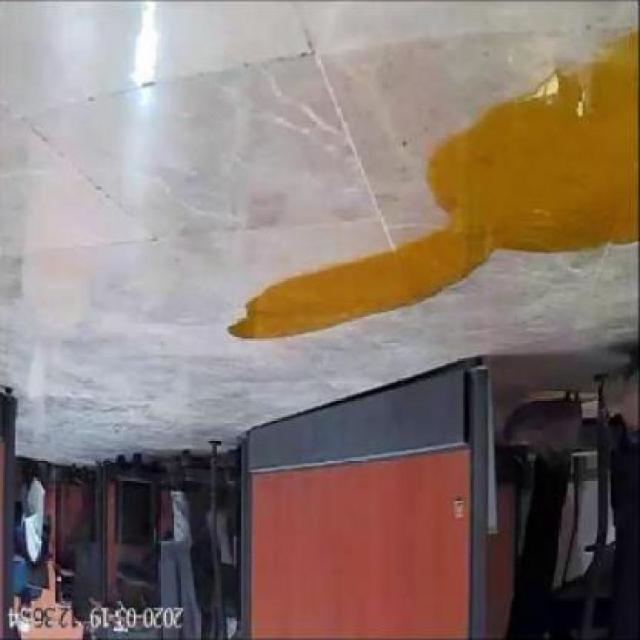spillage: (230, 29, 638, 338)
